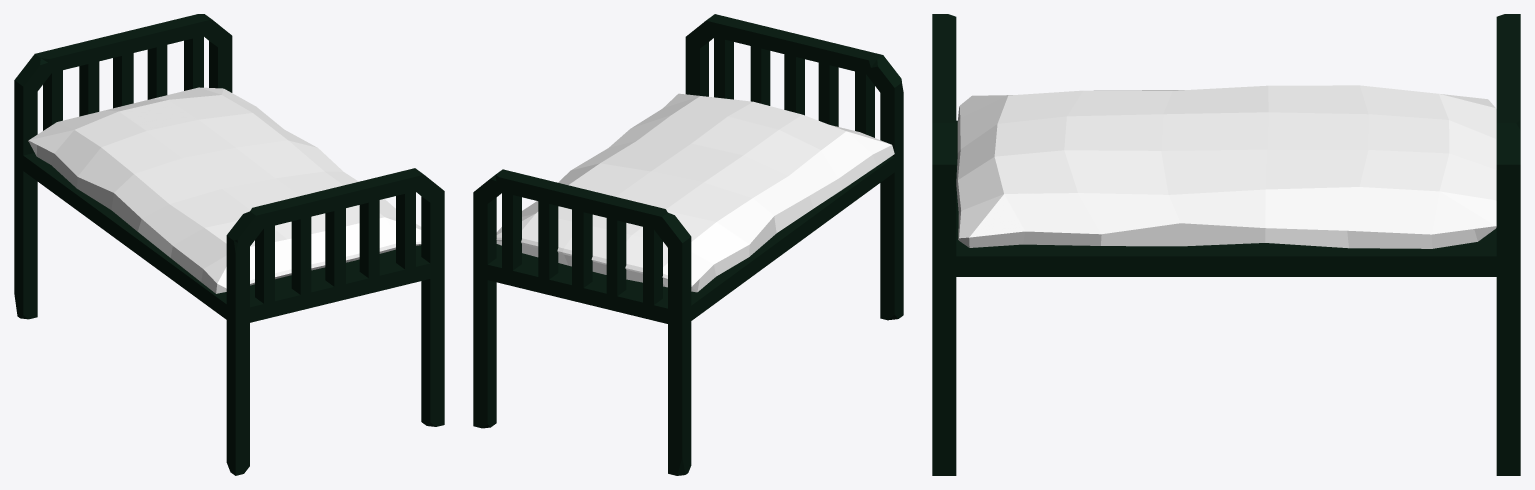
Rendered from Lit_Infirmerie.FBX.
The picture shows the model from 3 angles, left to right: view 1: azimuth 30°, elevation 25°; view 2: azimuth 150°, elevation 25°; view 3: azimuth 270°, elevation 25°; orthographic projection. The views are drawn at different scales.
Parts seen in each view (by area): view 1: Lit_Infirmerie, Matelas_Lit_Infirmerie; view 2: Lit_Infirmerie, Matelas_Lit_Infirmerie; view 3: Matelas_Lit_Infirmerie, Lit_Infirmerie.
Boxes of the visible parts, x1=… form: Lit_Infirmerie: x1=14, y1=14, x2=444, y2=475; Matelas_Lit_Infirmerie: x1=28, y1=87, x2=421, y2=293; Lit_Infirmerie: x1=473, y1=14, x2=903, y2=475; Matelas_Lit_Infirmerie: x1=496, y1=93, x2=894, y2=292; Matelas_Lit_Infirmerie: x1=956, y1=85, x2=1496, y2=248; Lit_Infirmerie: x1=932, y1=14, x2=1520, y2=475.
Bounding box in the file's own units: 96.13 × 108 × 170.
Materials: 1 (1 with a texture image).
